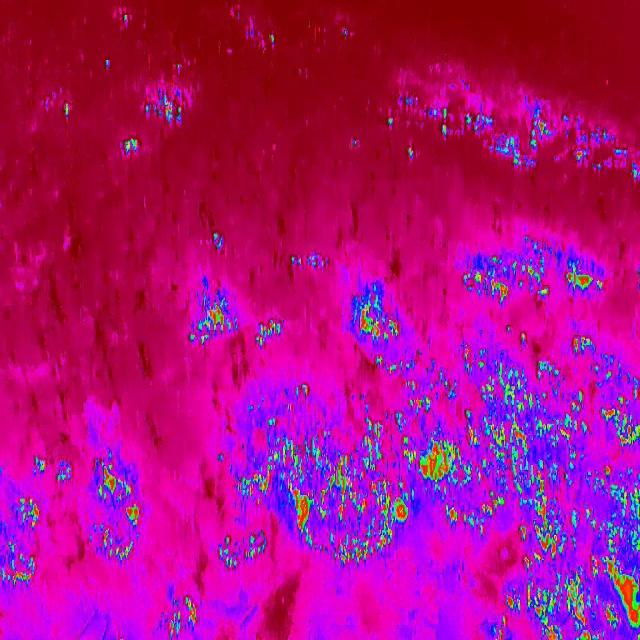fire: (450, 340, 640, 640), (211, 379, 492, 567), (360, 68, 640, 198), (0, 440, 143, 592), (454, 246, 616, 312), (187, 279, 298, 357), (351, 286, 404, 350), (167, 587, 206, 640), (142, 86, 187, 128), (118, 137, 144, 158), (60, 100, 76, 122)
